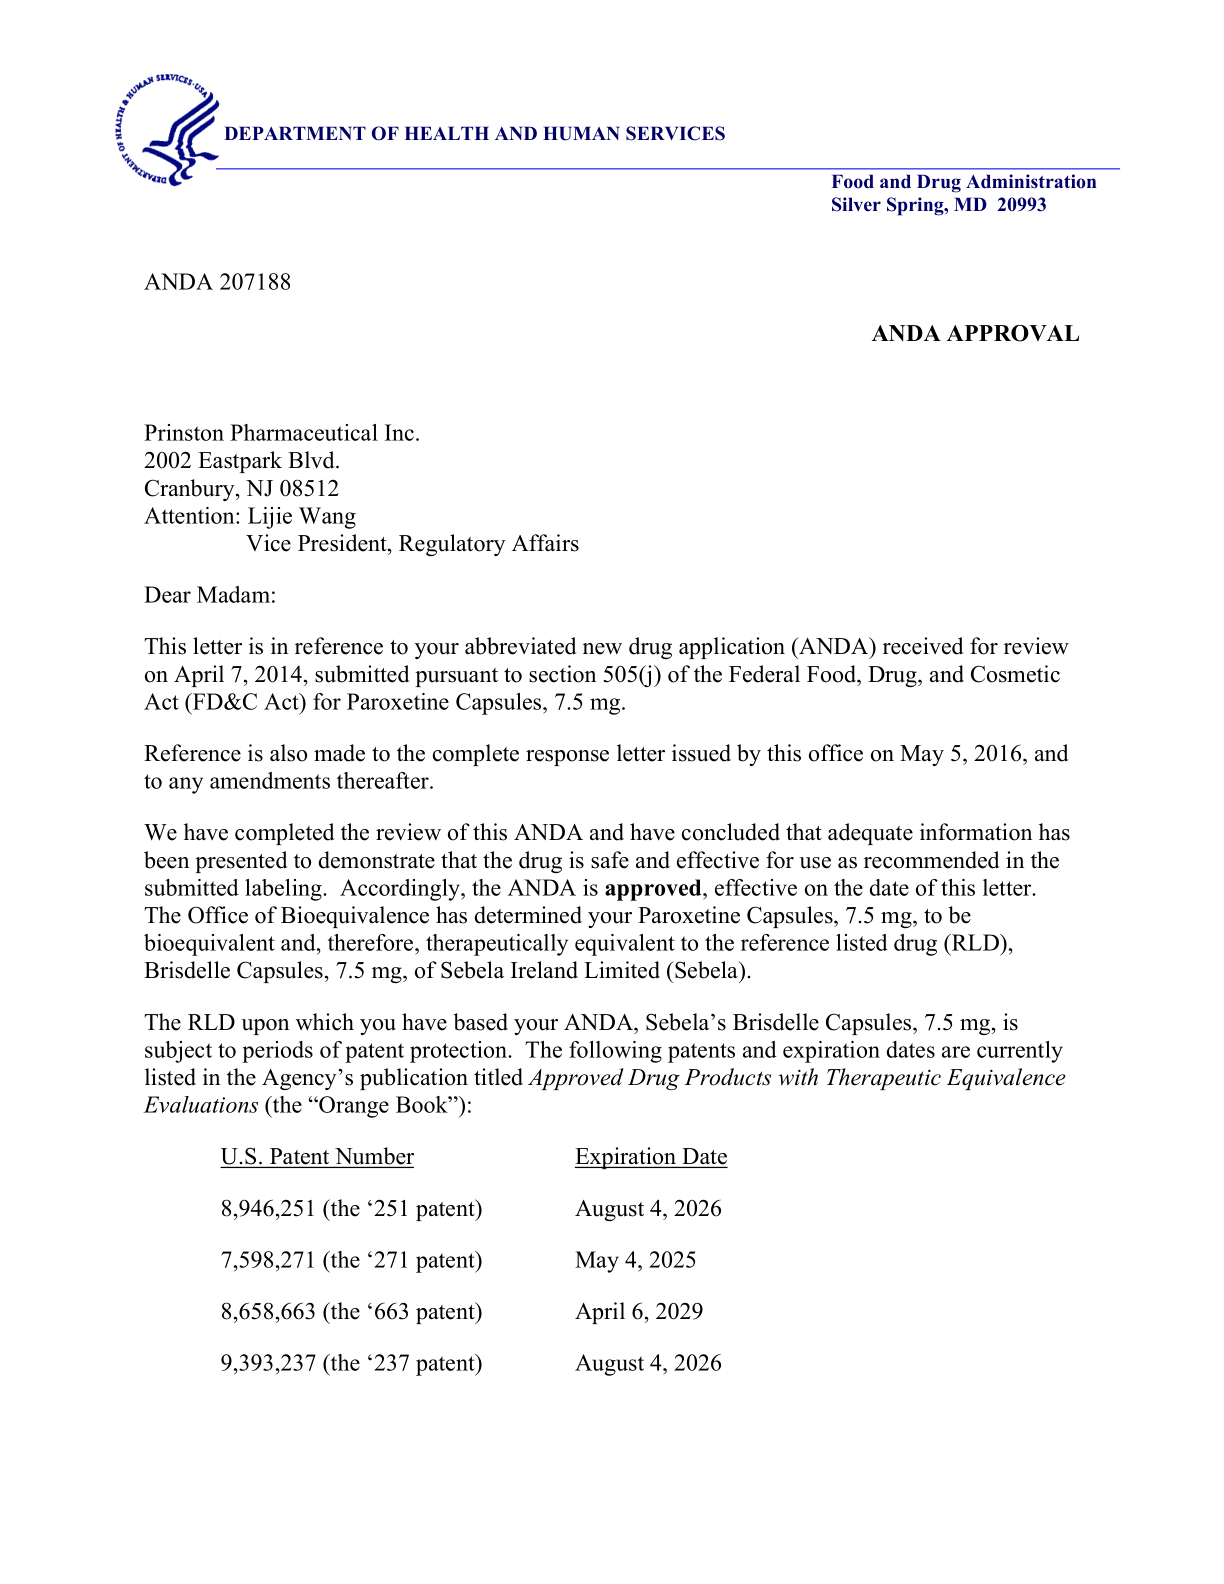nolines: (216, 1142, 732, 1374)
